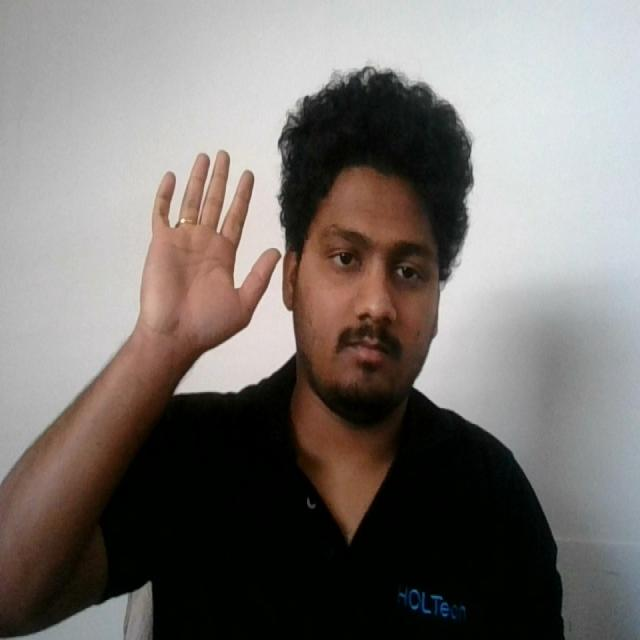Hello: (130, 141, 283, 372)
